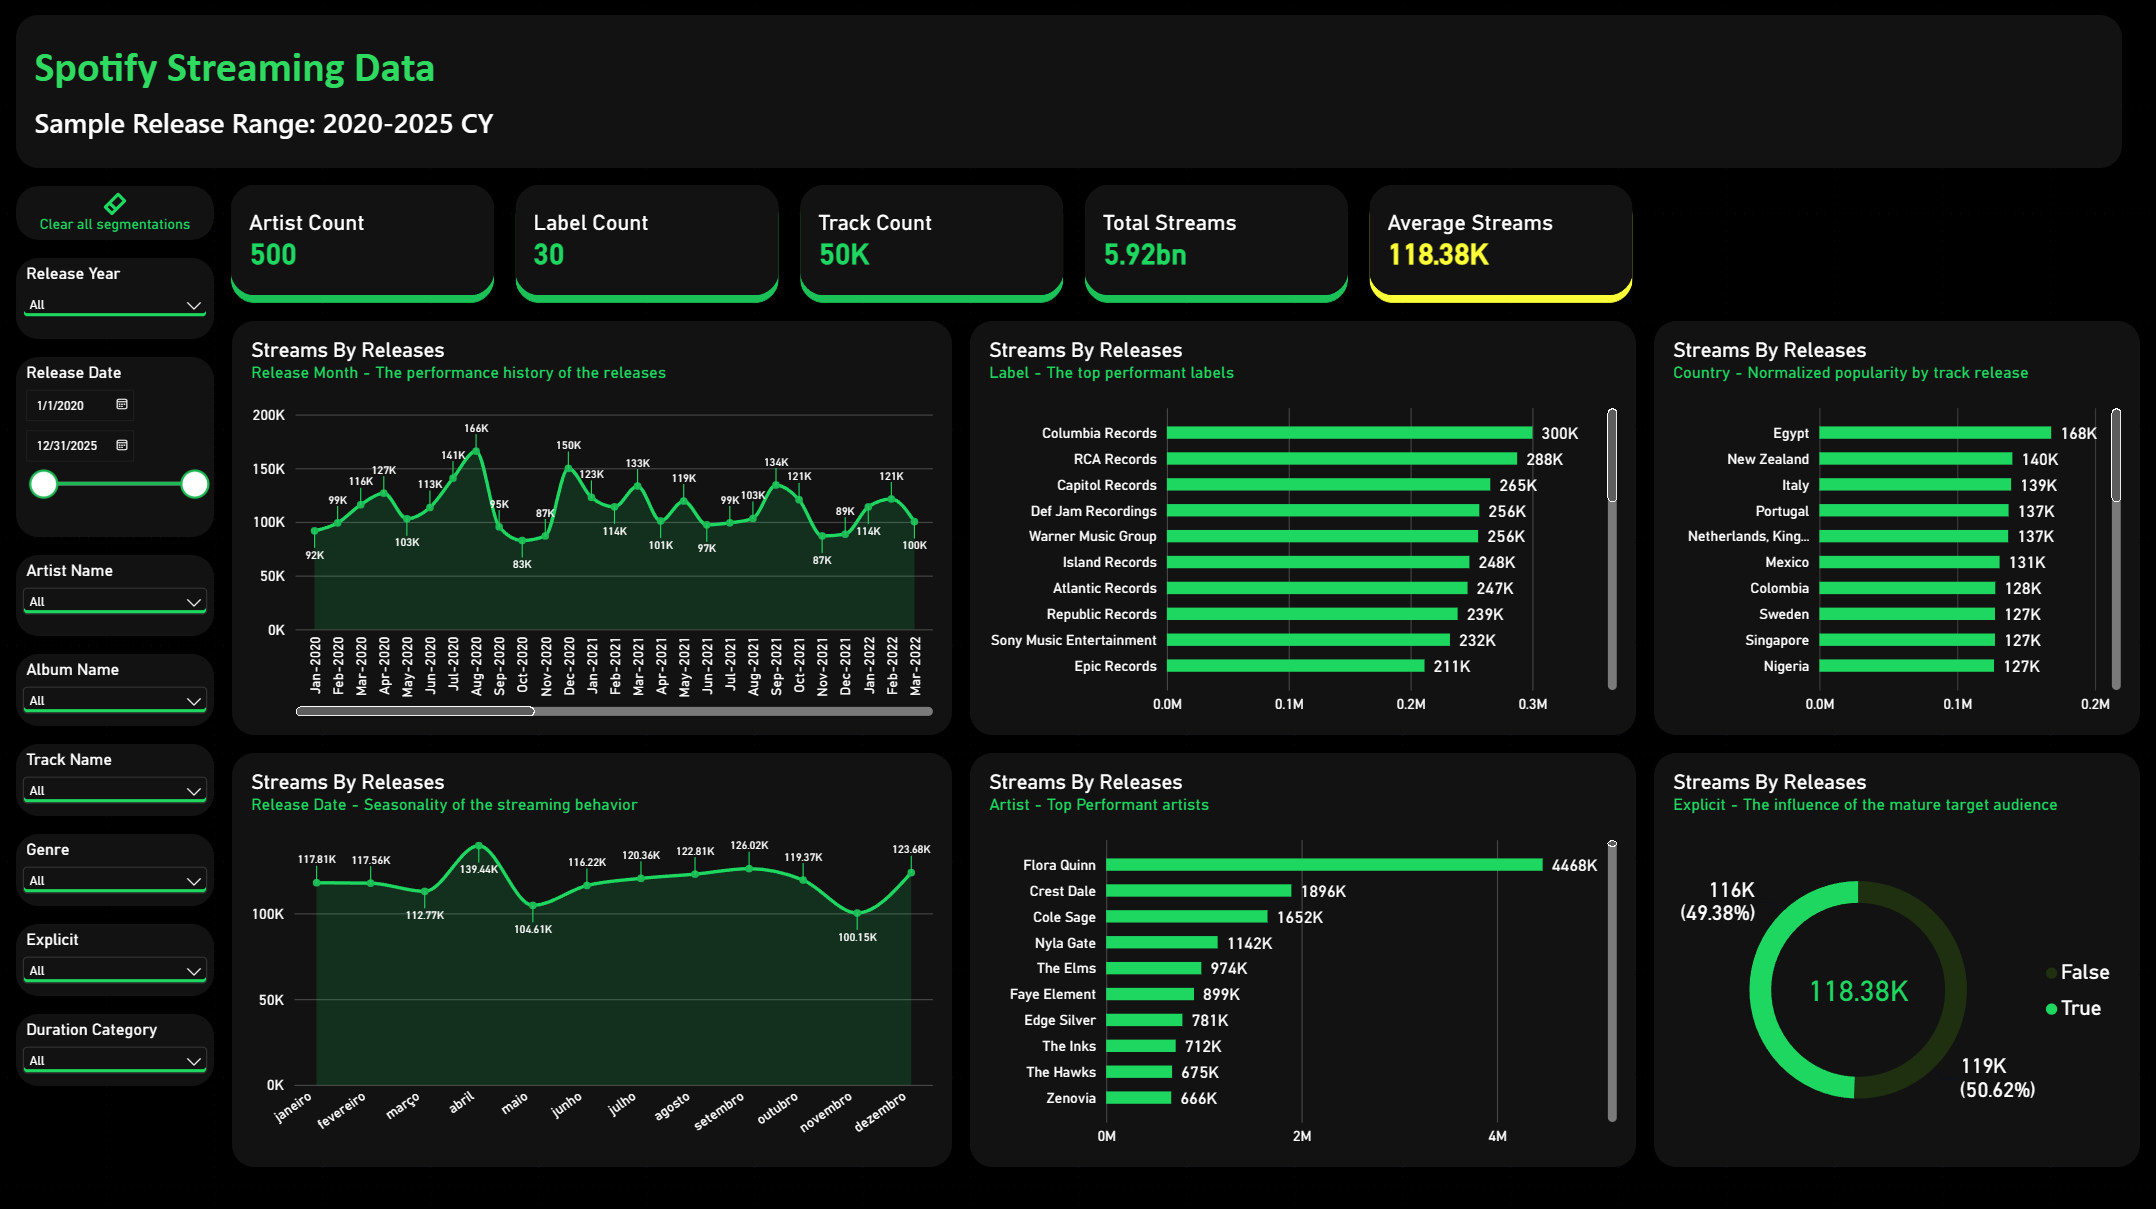

The page's visual inventory and layout, read from the dashboard file:
{"tool":"powerbi","page":{"name":"Duplicate of Track Count Summary","canvas":[1920,1080],"ordinal":2},"visuals":[{"type":"cardVisual","fields":{"Data":["Count(Spotify_Data.artist_name)","Count(Spotify_Data.label)","Count(Spotify_Data.track_id)","Sum(Spotify_Data.stream_count)","Avg(Spotify_Data.stream_count)"]},"box":[200,160,1264,112],"z":0},{"type":"textbox","box":[16,16,1872,136],"z":1000},{"type":"lineChart","title":"Streams By Releases","fields":{"Category":["Spotify_Data.release_monthyear"],"Y":["Spotify_Data.StreamPerTrack"]},"box":[208,288,640,368],"z":2000},{"type":"clusteredBarChart","title":"Streams By Releases","fields":{"Category":["Spotify_Data.label"],"Y":["Spotify_Data.StreamPerTrack"]},"box":[864,288,592,368],"z":3000},{"type":"barChart","title":"Streams By Releases","fields":{"Category":["Country_Names.Country Name"],"Y":["Spotify_Data.StreamPerTrack"]},"box":[1472,288,432,368],"z":4000},{"type":"lineChart","title":"Streams By Releases","fields":{"Category":["Spotify_Data.release_monthyear.Variation.Hierarquia de datas.Ano","Spotify_Data.release_monthyear.Variation.Hierarquia de datas.Trimestre","Spotify_Data.release_monthyear.Variation.Hierarquia de datas.Mês"],"Y":["Spotify_Data.StreamPerTrack"]},"box":[208,672,640,368],"z":5000},{"type":"clusteredBarChart","title":"Streams By Releases","fields":{"Category":["Spotify_Data.artist_name"],"Y":["Spotify_Data.StreamPerTrack"]},"box":[864,672,592,368],"z":6000},{"type":"donutChart","title":"Streams By Releases","fields":{"Category":["Spotify_Data.is_explicit_bool"],"Y":["Spotify_Data.StreamPerTrack"]},"box":[1472,672,432,368],"z":7000},{"type":"slicer","fields":{"Values":["Spotify_Data.release_date"]},"box":[16,320,176,160],"z":8000},{"type":"slicer","fields":{"Values":["Spotify_Data.artist_name"]},"box":[16,496,176,72],"z":9000},{"type":"slicer","fields":{"Values":["Spotify_Data.album_name"]},"box":[16,584,176,64],"z":10000},{"type":"slicer","fields":{"Values":["Spotify_Data.genre"]},"box":[16,744,176,64],"z":11000},{"type":"slicer","fields":{"Values":["Spotify_Data.explicit"]},"box":[16,824,176,64],"z":12000},{"type":"slicer","fields":{"Values":["Spotify_Data.Duration Category"]},"box":[16,904,176,64],"z":13000},{"type":"slicer","fields":{"Values":["Spotify_Data.release_year"]},"box":[16,232,176,72],"z":14000},{"type":"actionButton","box":[16,168,176,48],"z":15000},{"type":"slicer","fields":{"Values":["Spotify_Data.track_name"]},"box":[16,664,176,64],"z":16000}]}

Visuals, with their boxes in screenshot pixels (x1, y1, x2, y2), scaled from the page's 1920x1080 canvas onto the 2156x1209 screenshot:
cardVisual - Count(Spotify_Data.artist_name) x Count(Spotify_Data.label): x1=225 y1=179 x2=1644 y2=304
textbox: x1=18 y1=18 x2=2120 y2=170
"Streams By Releases" lineChart: x1=234 y1=322 x2=952 y2=734
"Streams By Releases" clusteredBarChart: x1=970 y1=322 x2=1635 y2=734
"Streams By Releases" barChart: x1=1653 y1=322 x2=2138 y2=734
"Streams By Releases" lineChart: x1=234 y1=752 x2=952 y2=1164
"Streams By Releases" clusteredBarChart: x1=970 y1=752 x2=1635 y2=1164
"Streams By Releases" donutChart: x1=1653 y1=752 x2=2138 y2=1164
slicer - Spotify_Data.release_date: x1=18 y1=358 x2=216 y2=537
slicer - Spotify_Data.artist_name: x1=18 y1=555 x2=216 y2=636
slicer - Spotify_Data.album_name: x1=18 y1=654 x2=216 y2=725
slicer - Spotify_Data.genre: x1=18 y1=833 x2=216 y2=905
slicer - Spotify_Data.explicit: x1=18 y1=922 x2=216 y2=994
slicer - Spotify_Data.Duration Category: x1=18 y1=1012 x2=216 y2=1084
slicer - Spotify_Data.release_year: x1=18 y1=260 x2=216 y2=340
actionButton: x1=18 y1=188 x2=216 y2=242
slicer - Spotify_Data.track_name: x1=18 y1=743 x2=216 y2=815
